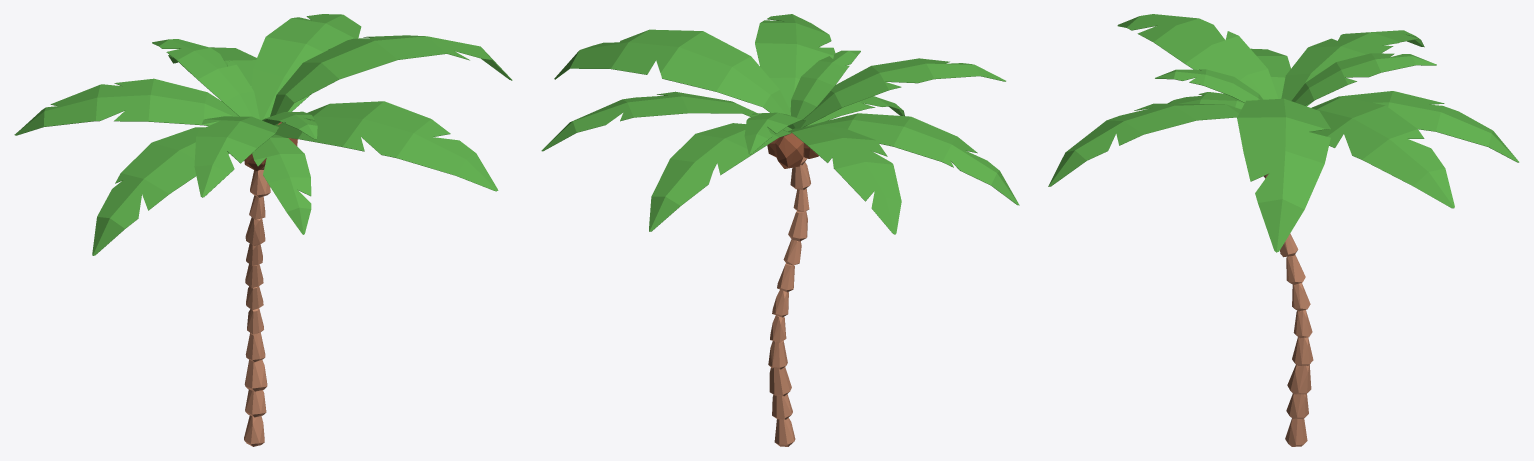
File: palm_tree1.fbx
The picture shows the model from 3 angles, left to right: view 1: azimuth 30°, elevation 25°; view 2: azimuth 150°, elevation 25°; view 3: azimuth 270°, elevation 25°; orthographic projection. The views are drawn at different scales.
Visible parts, largest first — view 1: palm_tree_leaves, palm_tree_body; view 2: palm_tree_leaves, palm_tree_body, palm_tree_coconuts; view 3: palm_tree_leaves, palm_tree_body.
Boxes of the visible parts, x1,y1,x2,y2 form: palm_tree_leaves: (14,14,512,255); palm_tree_body: (244,166,270,446); palm_tree_leaves: (541,14,1019,234); palm_tree_body: (768,157,810,446); palm_tree_coconuts: (767,132,818,168); palm_tree_leaves: (1048,14,1519,252); palm_tree_body: (1263,174,1313,446).
Size of the model in its own units: 5.97 by 4.81 by 5.34.
